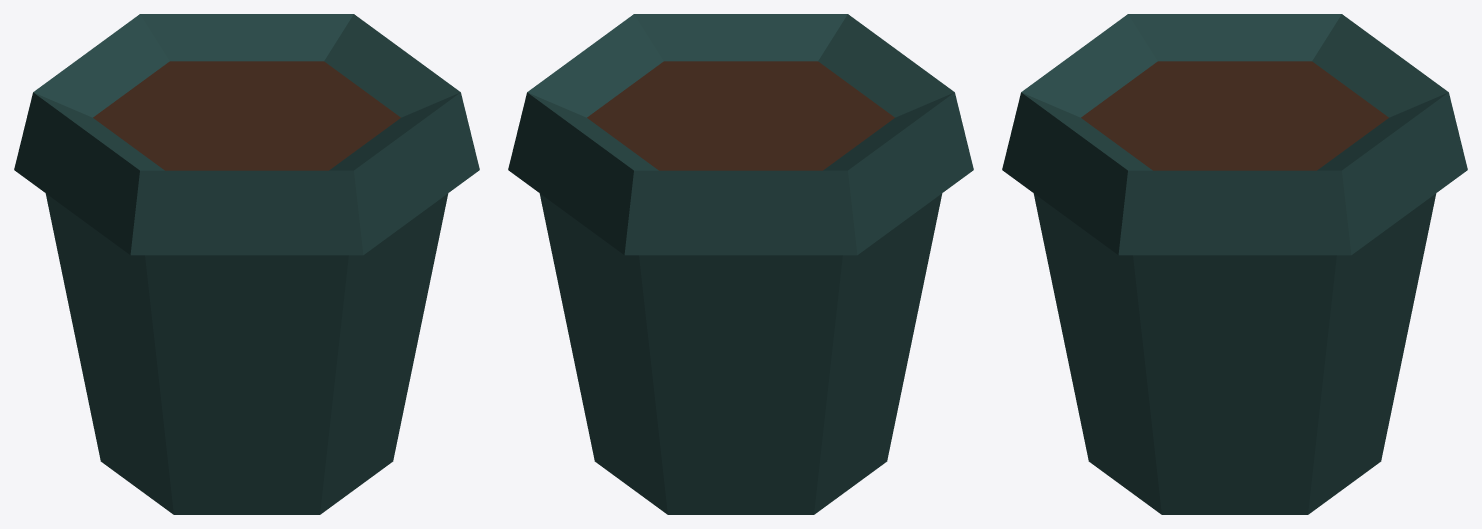
File: flower_pot_base.glb
3 views of the same model, side by side, from view 1: azimuth 30°, elevation 25°; view 2: azimuth 150°, elevation 25°; view 3: azimuth 270°, elevation 25° (orthographic).
Visible parts, largest first — view 1: FlowerPot6; view 2: FlowerPot6; view 3: FlowerPot6.
Boxes of the visible parts, x1,y1,x2,y2 form: FlowerPot6: (14, 14, 479, 514); FlowerPot6: (508, 14, 973, 514); FlowerPot6: (1002, 14, 1467, 514).
Size of the model in its own units: 0.3854 by 0.3891 by 0.445.
